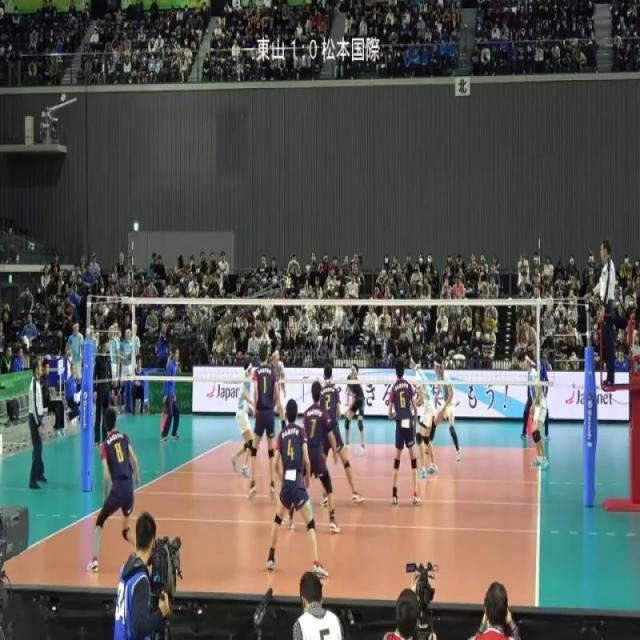volleyball: (334, 306, 344, 324)
